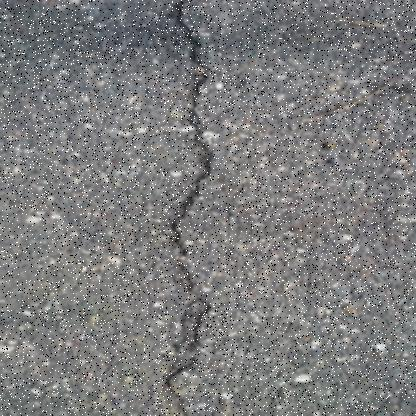Cracks: (154, 0, 236, 415)
